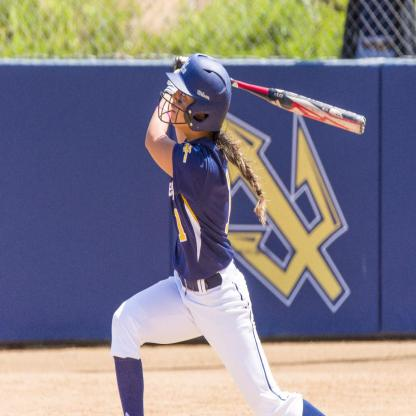Helmet: (157, 49, 231, 133)
